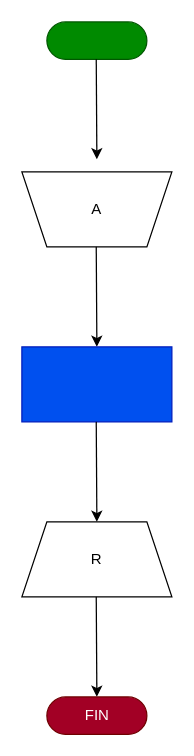
The diagram is 194 pixels wide and 756 high, and some of its shapes have lost their labels. Here are the shapes that lost their labels. From the top down, the centre of each, then its label:
At [96,40]: "INICIO".
At [96,384]: "R = A * A* A".
